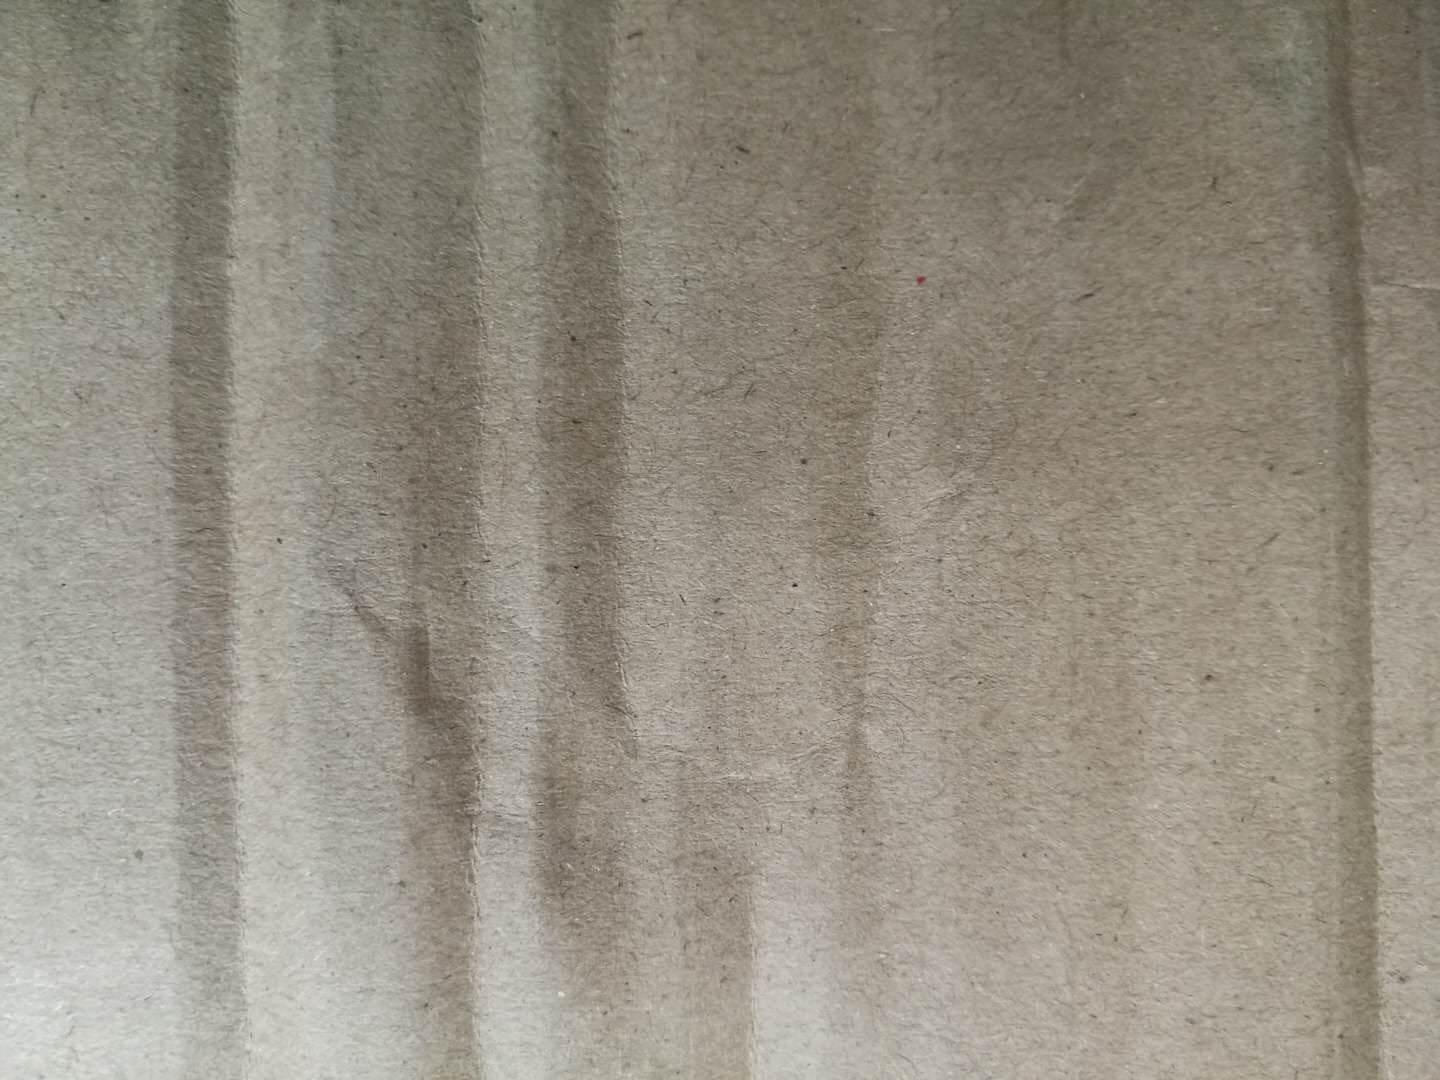defect: (355, 1, 945, 1078), (115, 2, 345, 1080), (1233, 1, 1440, 1080)
